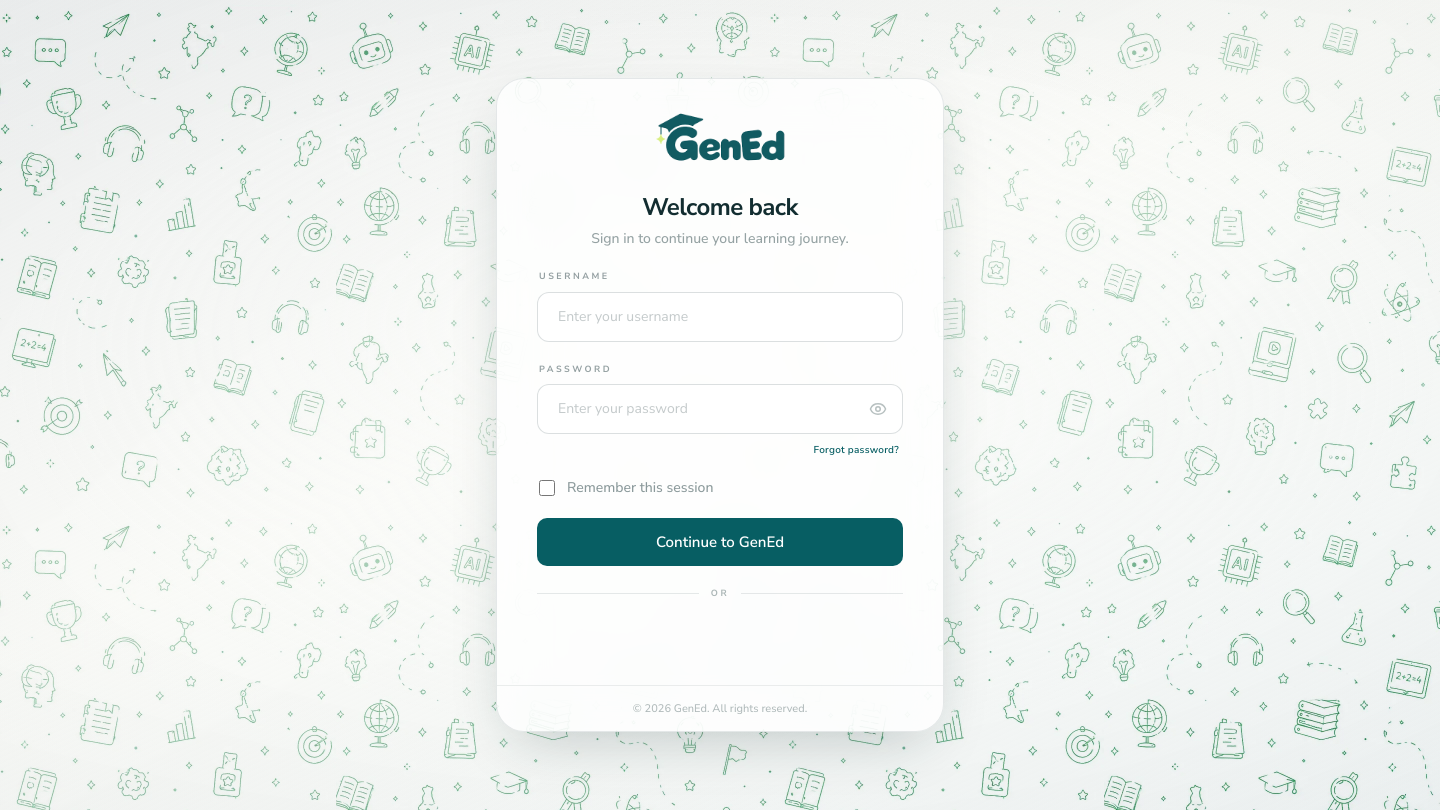
login flow (integration) › shows the server error message and does not redirect on 401
The width and height of the screenshot is (1440, 810).
Type "ada" into the field named "username" at [720, 317], box [537, 292, 903, 342]
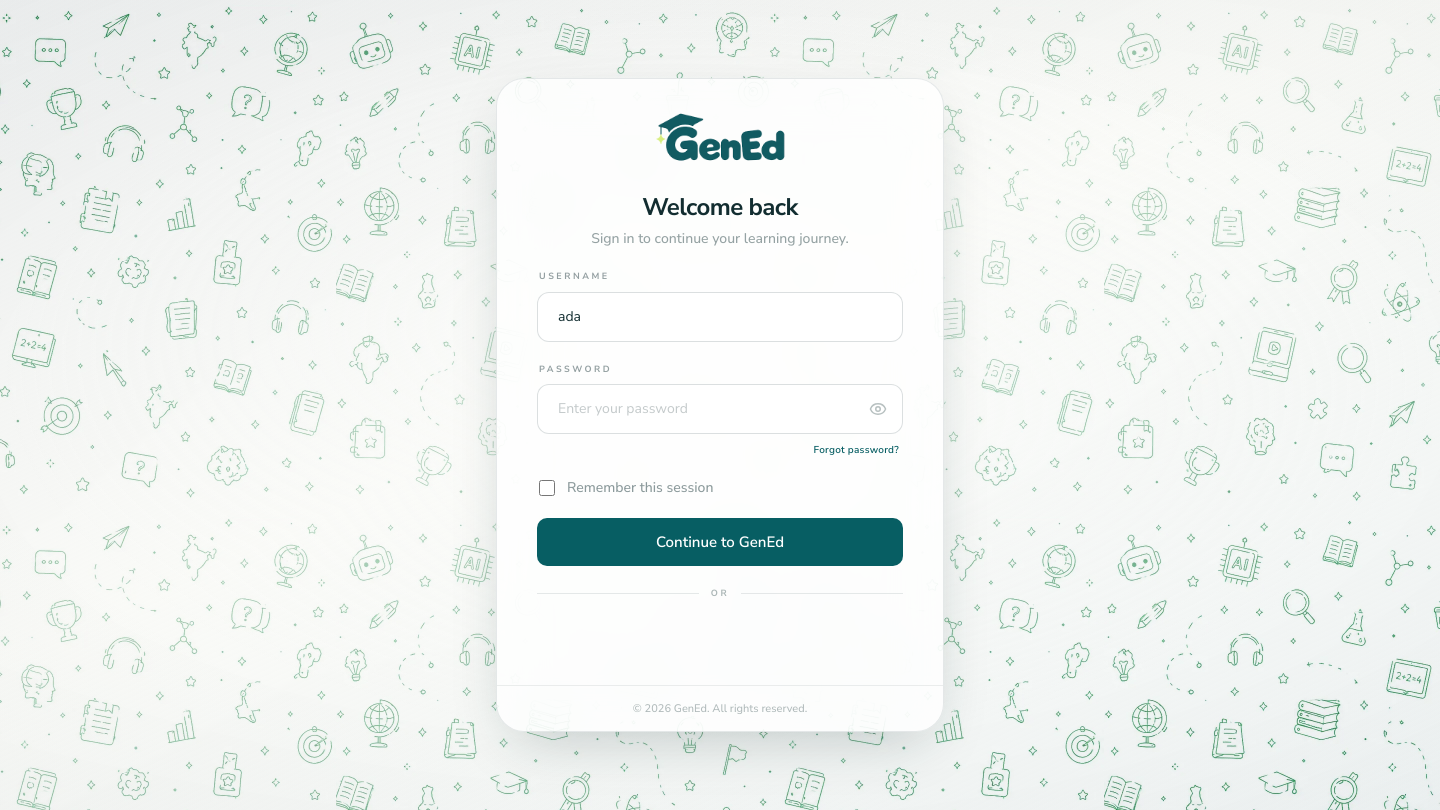
Type "password123" into the password field named "password" at [720, 409], box [537, 384, 903, 434]
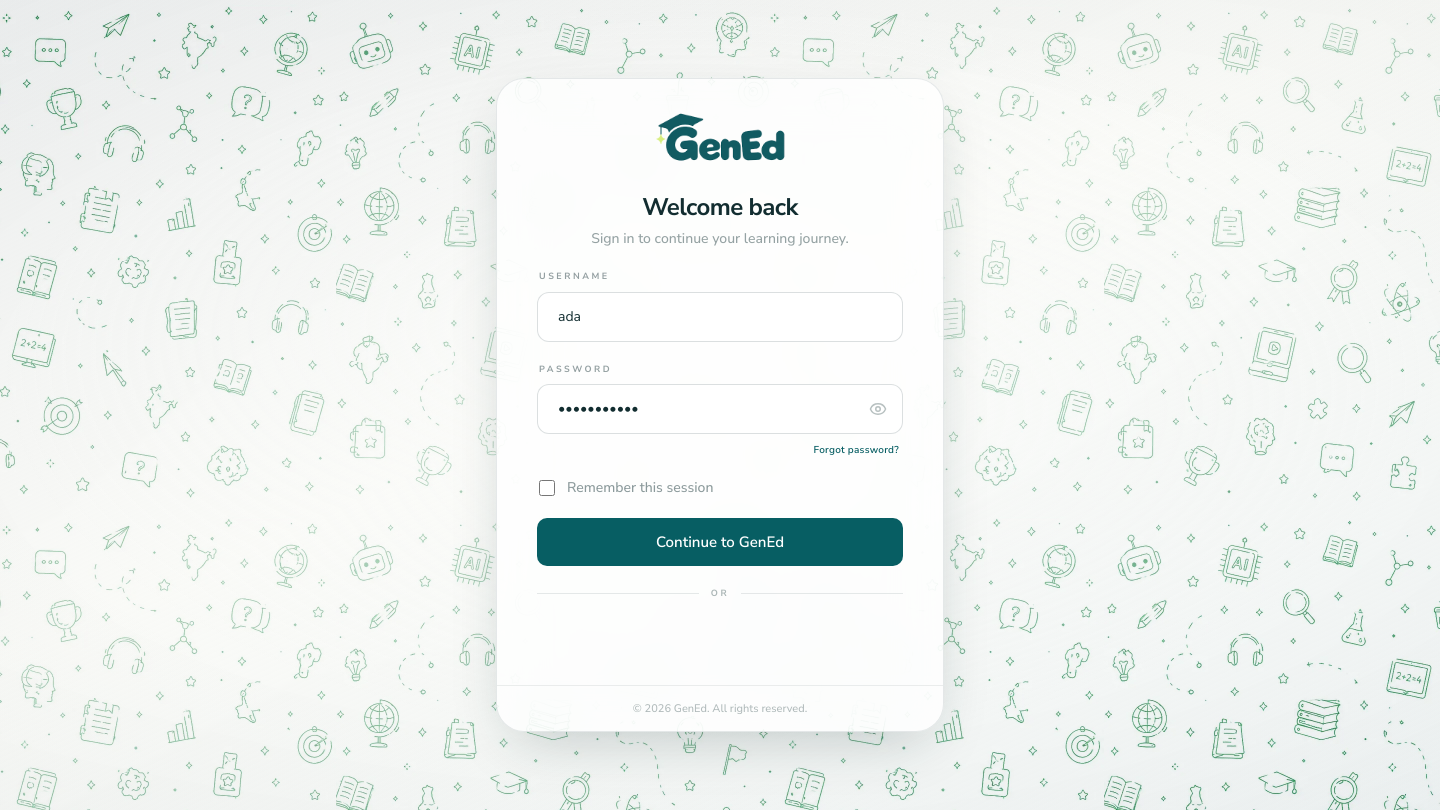
Submit the form, box [537, 269, 903, 661]
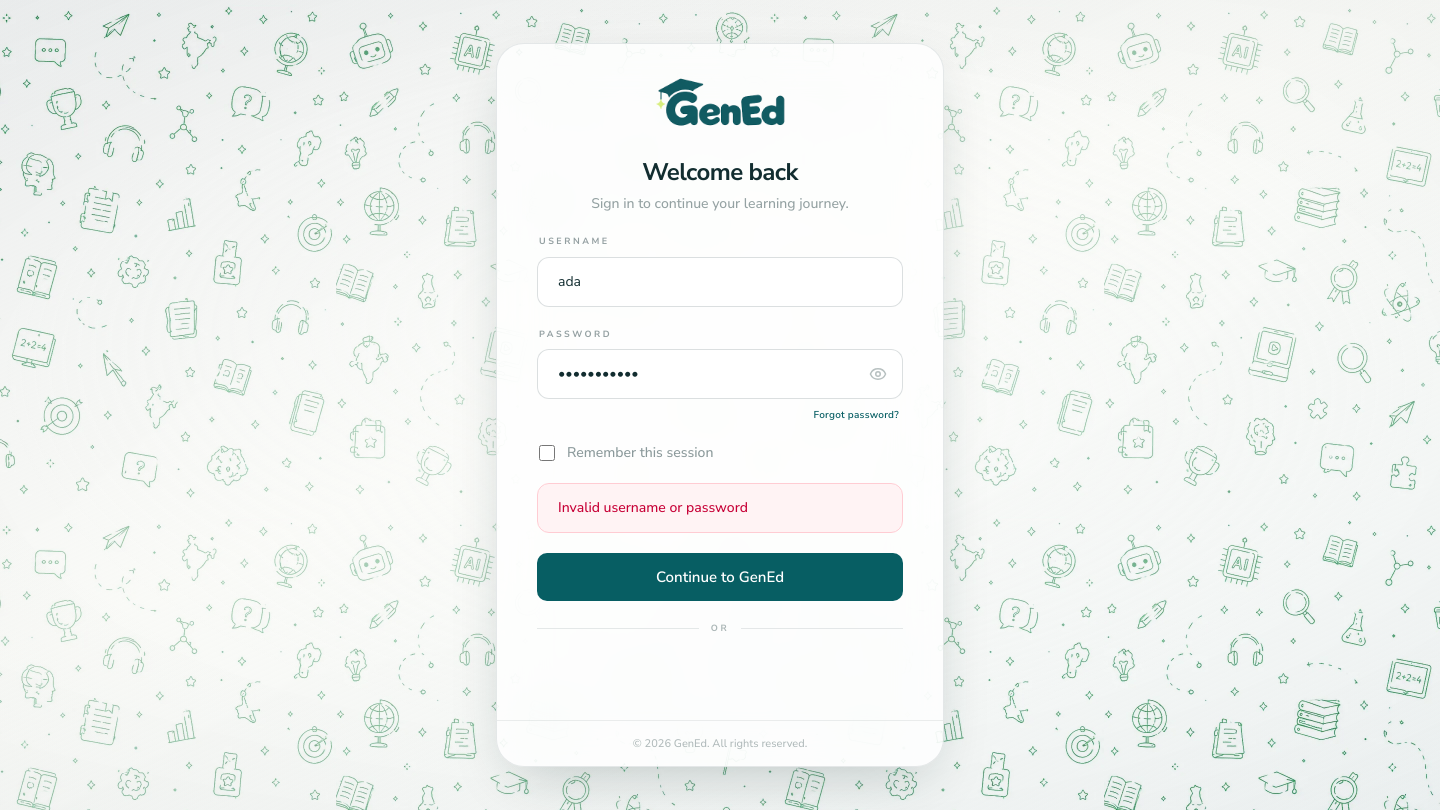
Check: the text "Invalid username or password" is shown, box [537, 483, 903, 533]
